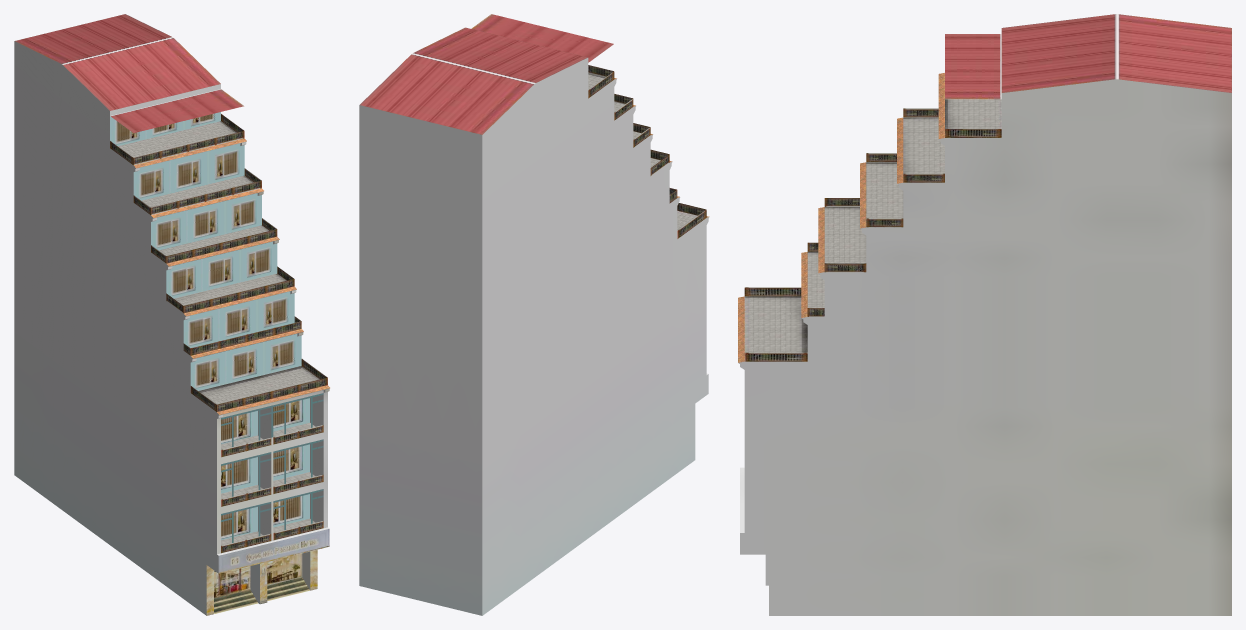
3 renders of one model, left to right at view 1: azimuth 30°, elevation 25°; view 2: azimuth 150°, elevation 25°; view 3: azimuth 270°, elevation 25°, orthographic. The views are drawn at different scales.
Parts seen in each view (by area): view 1: HN150_Quoc_Hoa_Premier_Hotel___Spa; view 2: HN150_Quoc_Hoa_Premier_Hotel___Spa; view 3: HN150_Quoc_Hoa_Premier_Hotel___Spa.
Boxes of the visible parts, box(x1,y1,x2,y2) form: HN150_Quoc_Hoa_Premier_Hotel___Spa: box(14, 14, 329, 615); HN150_Quoc_Hoa_Premier_Hotel___Spa: box(359, 14, 709, 615); HN150_Quoc_Hoa_Premier_Hotel___Spa: box(738, 14, 1231, 615).
Size of the model in its own units: 10 by 38.39 by 32.01.
Materials: 1 (1 with a texture image).
